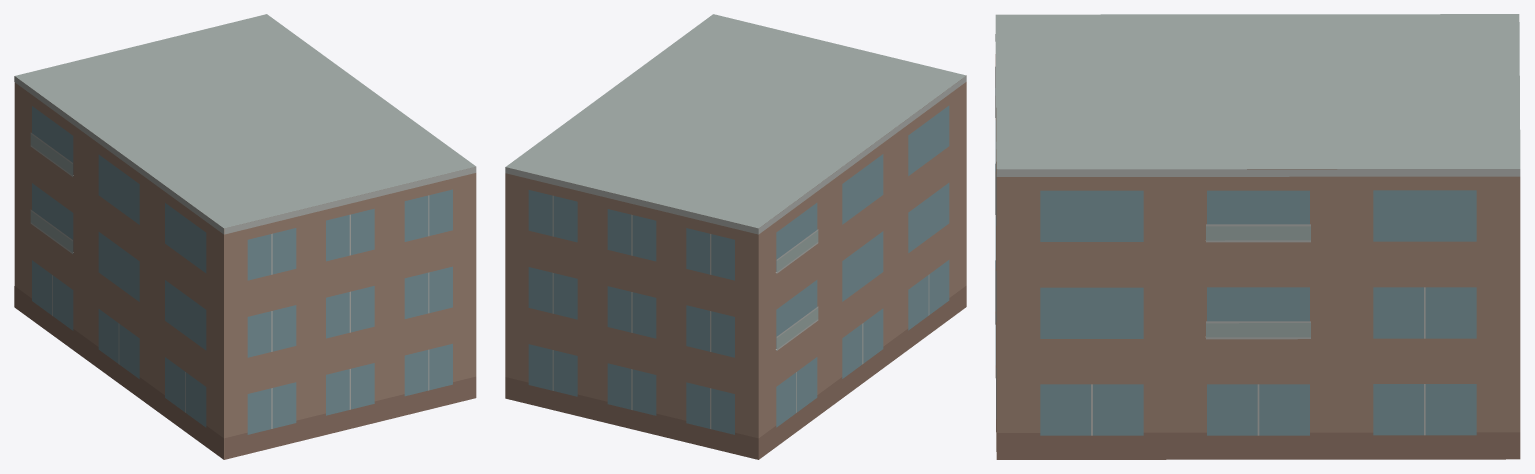
The model's file is survey-upis-32975728.glb.
The picture shows the model from 3 angles, left to right: view 1: azimuth 30°, elevation 25°; view 2: azimuth 150°, elevation 25°; view 3: azimuth 270°, elevation 25°; orthographic projection. The views are drawn at different scales.
Parts seen in each view (by area): view 1: survey-upis-32975728.tmp; view 2: survey-upis-32975728.tmp; view 3: survey-upis-32975728.tmp.
Part boxes in pixels (box(x1,y1,x2,y2)): survey-upis-32975728.tmp: box(14, 14, 476, 459); survey-upis-32975728.tmp: box(505, 14, 966, 459); survey-upis-32975728.tmp: box(995, 14, 1520, 459).
Bounding box in the file's own units: 10.55 × 9.15 × 14.99.
